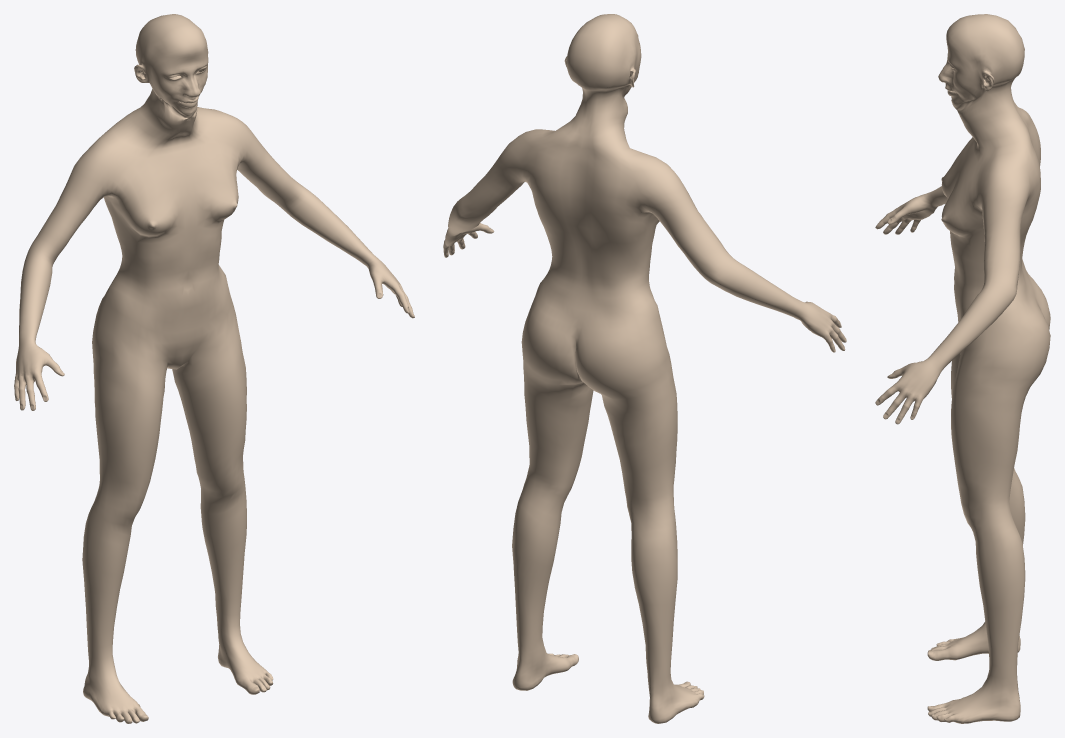
File: female_body.fbx
3 views of the same model, side by side, from view 1: azimuth 30°, elevation 25°; view 2: azimuth 150°, elevation 25°; view 3: azimuth 270°, elevation 25° (orthographic).
Visible parts, largest first — view 1: Human; view 2: Human; view 3: Human.
Boxes of the visible parts, bbox=[...] form: Human: bbox=[14, 14, 414, 723]; Human: bbox=[443, 14, 846, 723]; Human: bbox=[875, 14, 1050, 723].
Size of the model in its own units: 103 by 168 by 39.81.
